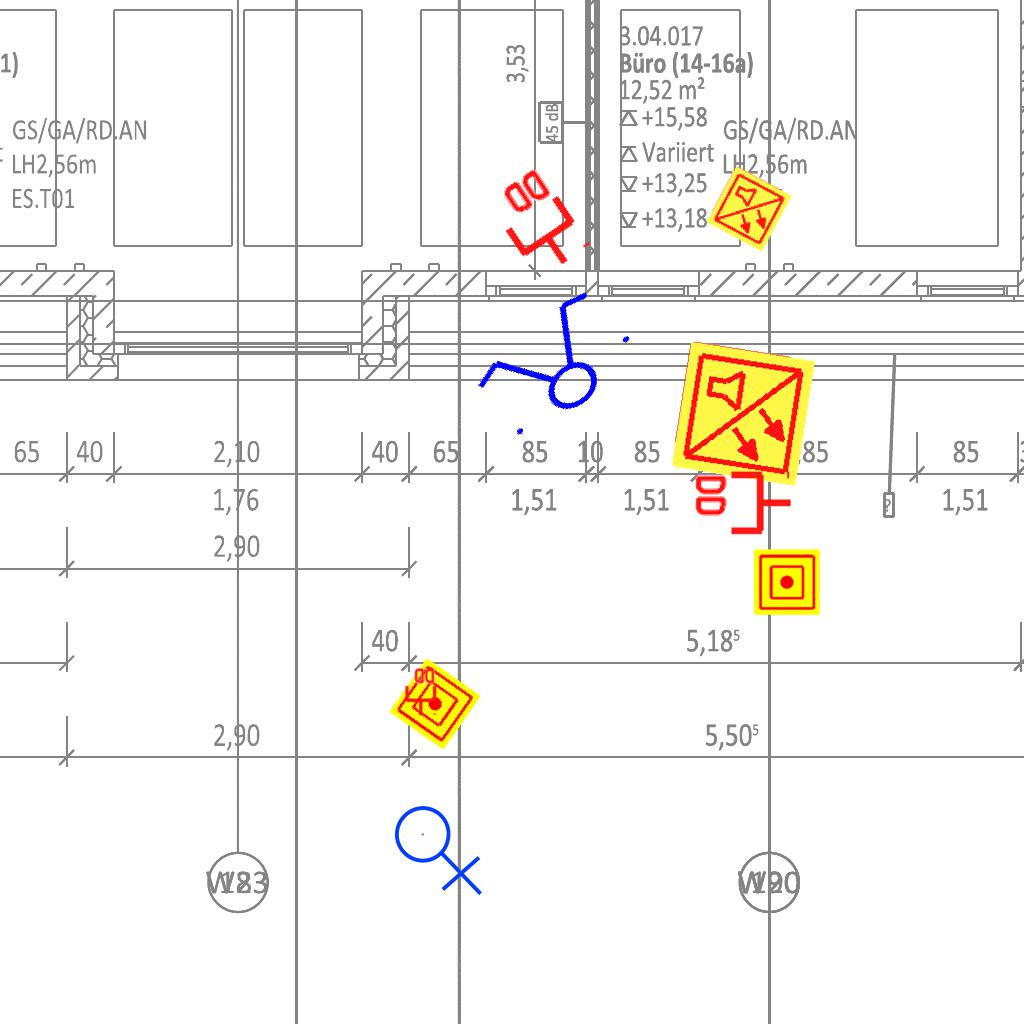Datenanschluss_zweifach: (479, 161, 594, 286), (691, 470, 794, 539), (403, 666, 437, 717)
Elektroanschluss_allgemein_230V_Geraeteanschlussdose_230V: (393, 797, 487, 896)
NAM-Nichtautomatischer_Melder: (389, 658, 481, 750), (754, 549, 820, 615)
OKW_Multisensormelder_(Kombination_optischer_Rauch-Kahlenmonoxid_Waerme-Melder): (667, 338, 819, 490), (704, 164, 794, 254)
Serienschalter: (460, 275, 650, 459)
